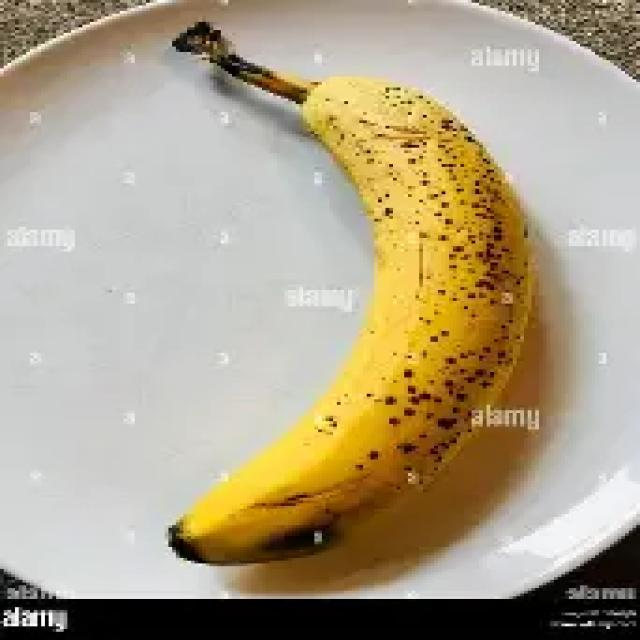BANANA: (165, 19, 546, 573)
